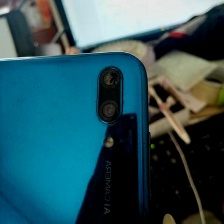phone: (0, 42, 152, 224)
